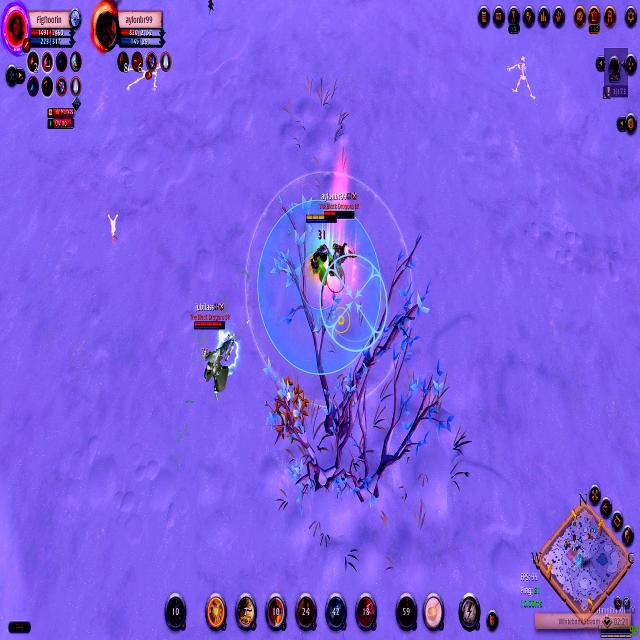hide: (268, 369, 309, 452)
red: (186, 294, 244, 404), (320, 190, 360, 290), (303, 209, 339, 294), (594, 603, 639, 640)
